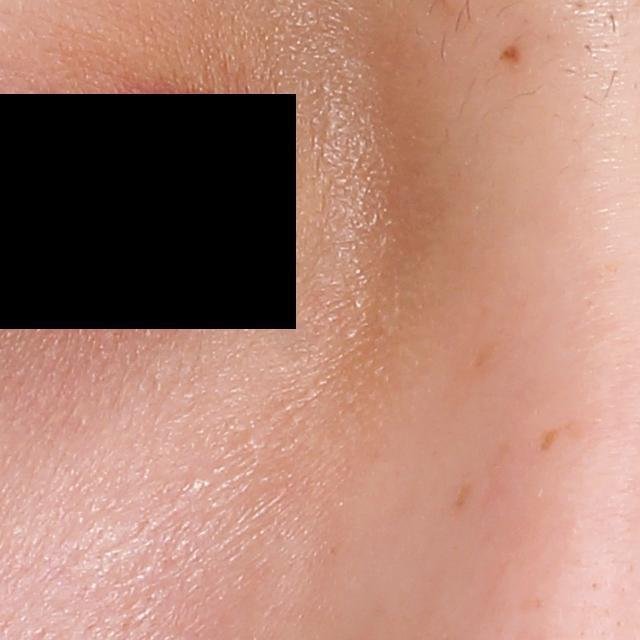melasma: (472, 341, 498, 371), (452, 479, 474, 512), (538, 427, 565, 453)
